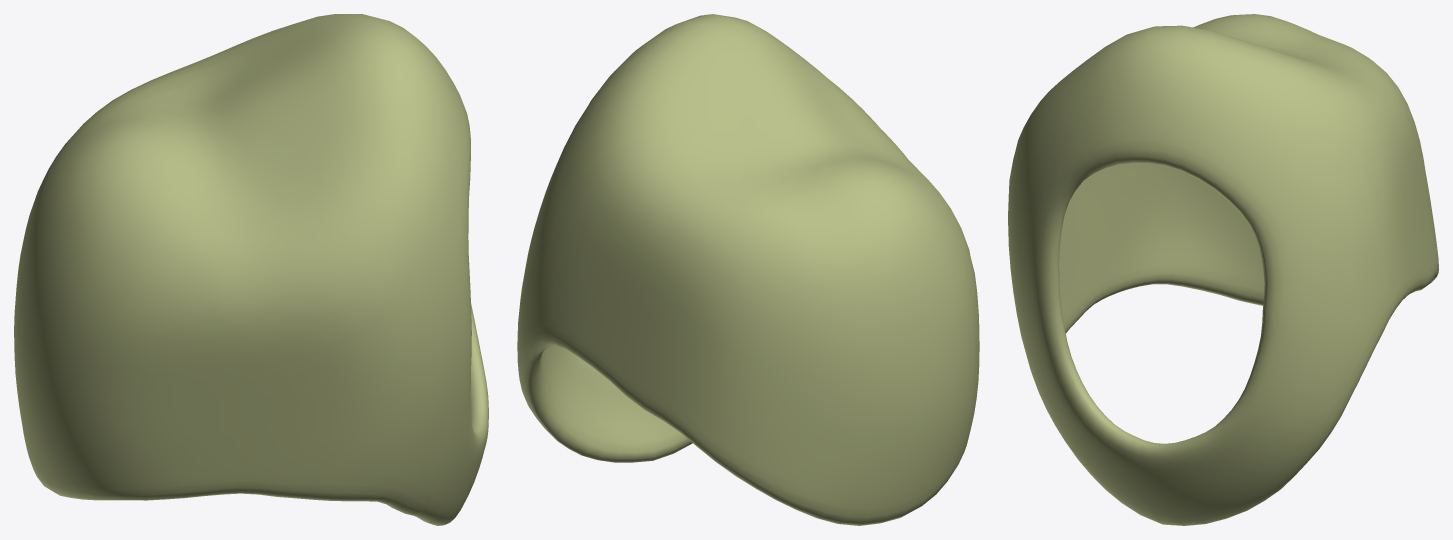
File: BR5_Frame_Classic.001 3.glb
The picture shows the model from 3 angles, left to right: view 1: azimuth 30°, elevation 25°; view 2: azimuth 150°, elevation 25°; view 3: azimuth 270°, elevation 25°; orthographic projection. The views are drawn at different scales.
Visible parts, largest first — view 1: BR5_Frame_Classic.001; view 2: BR5_Frame_Classic.001; view 3: BR5_Frame_Classic.001.
Part boxes in pixels (x1=…): BR5_Frame_Classic.001: x1=14, y1=14, x2=488, y2=525; BR5_Frame_Classic.001: x1=517, y1=14, x2=979, y2=525; BR5_Frame_Classic.001: x1=1008, y1=14, x2=1438, y2=525.
Bounding box in the file's own units: 0.8307 × 0.8891 × 0.7506.
